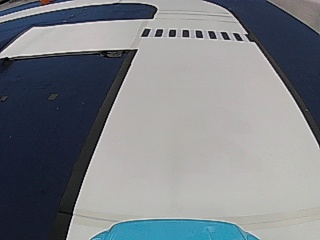CrossWalk: (140, 26, 253, 44)
